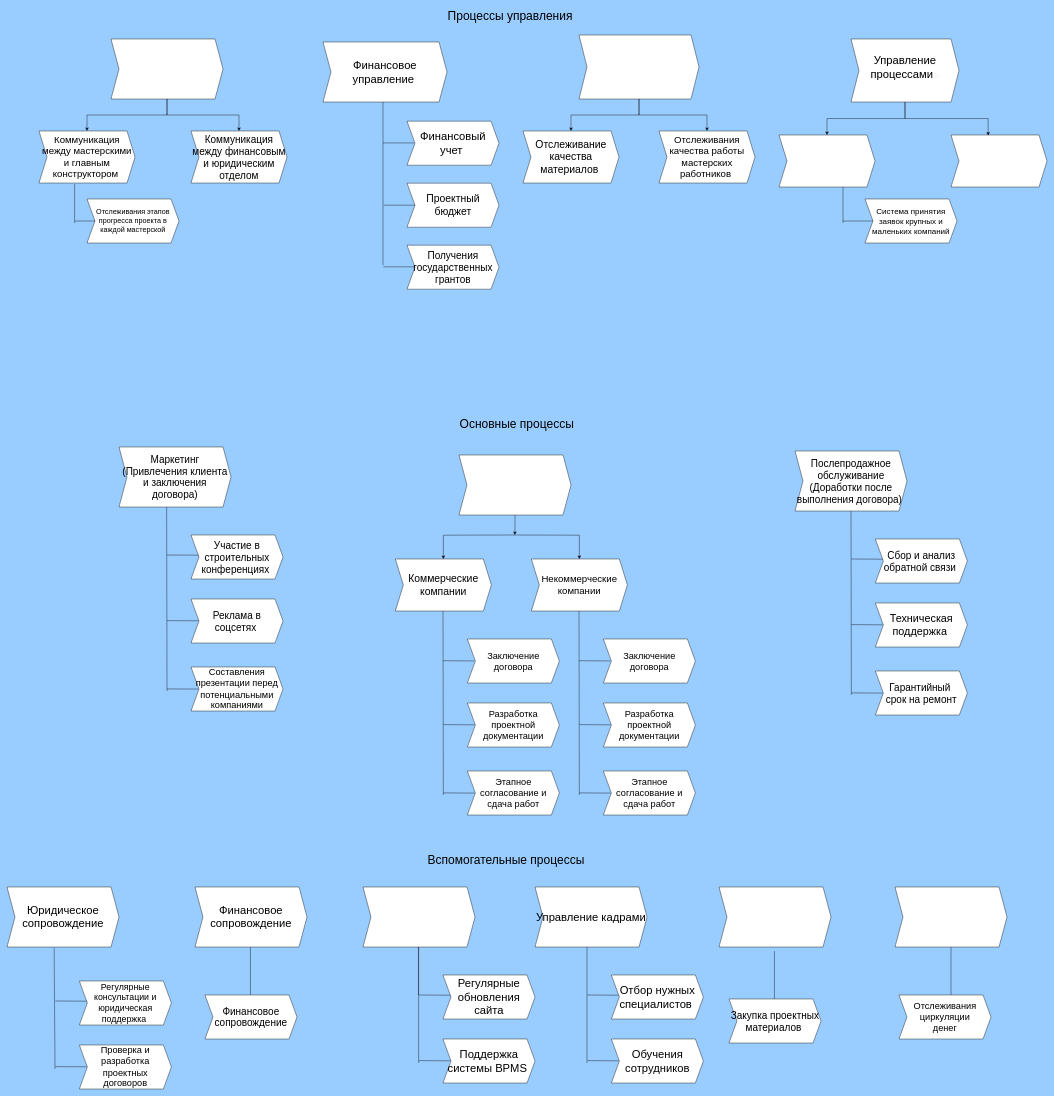
The diagram is 1054 pixels wide and 1096 high, and some of its shapes have lost their labels. Here are the shapes that lost their labels. From the top down, the centre of each, then its label:
the point at 167,69: Контроль взаимодействие между подразделениями
the point at 639,67: Управление качеством
the point at 827,161: Обработка заявок
the point at 999,161: Приоритетная выборка
the point at 515,485: Оказание услуг (Выполнения договора)
the point at 419,917: ИТ-поддержка
the point at 775,917: Снабжение и логистика
the point at 951,917: Бухгалтерский и налоговый учет
